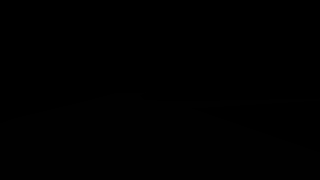turn_right: (218, 41, 241, 65)
